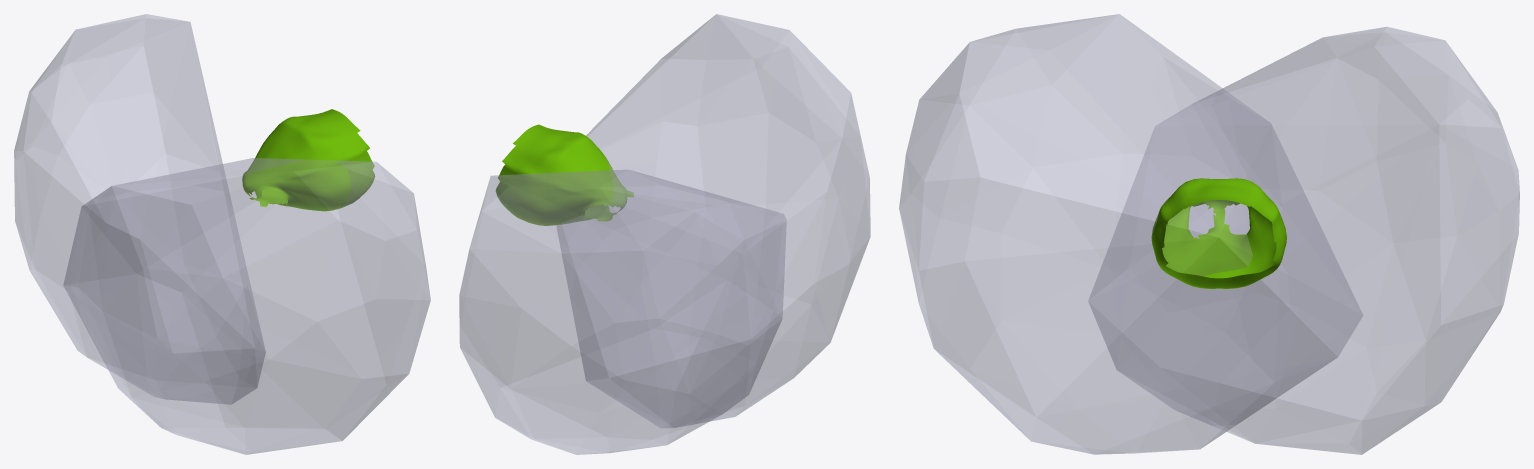
File: Torso_view.dae
3 views of the same model, side by side, from view 1: azimuth 30°, elevation 25°; view 2: azimuth 150°, elevation 25°; view 3: azimuth 270°, elevation 25° (orthographic). The views are drawn at different scales.
Visible parts, largest first — view 1: Rfoot_Rom, Lfoot_Rom, Torso; view 2: Rfoot_Rom, Lfoot_Rom, Torso; view 3: Rfoot_Rom, Lfoot_Rom, Torso.
Part boxes in pixels (x1,y1,x2,y2): Rfoot_Rom: (63, 158, 430, 454); Lfoot_Rom: (14, 14, 265, 404); Torso: (242, 109, 374, 211); Rfoot_Rom: (556, 14, 870, 427); Lfoot_Rom: (459, 169, 786, 454); Torso: (495, 124, 633, 225); Rfoot_Rom: (899, 14, 1362, 454); Lfoot_Rom: (1088, 26, 1519, 454); Torso: (1151, 178, 1286, 288).
Size of the model in its own units: 0.3692 by 0.5834 by 0.4094.
